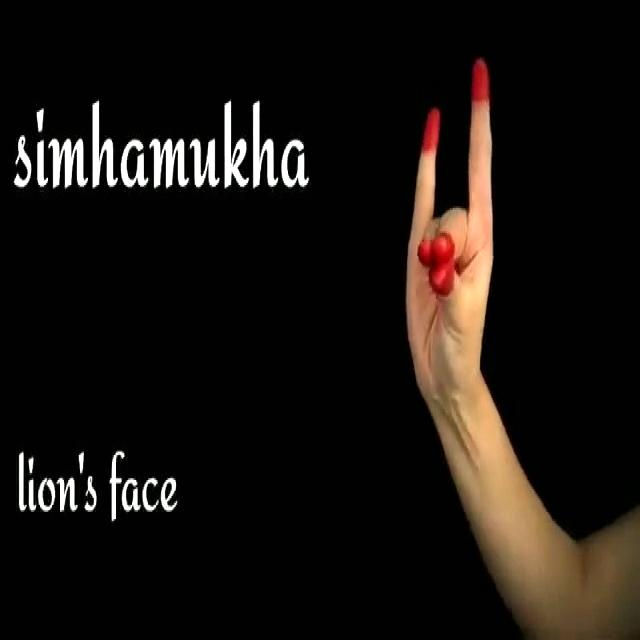Simhamukha: (381, 57, 524, 382)
text: (7, 84, 313, 218), (15, 434, 183, 536)
